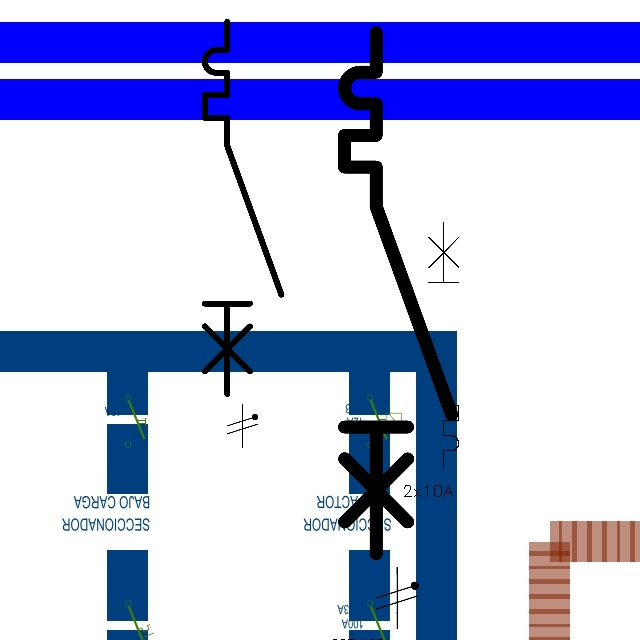interruptor_termomagnetico: (331, 19, 465, 567), (195, 12, 291, 404), (402, 216, 465, 476)
